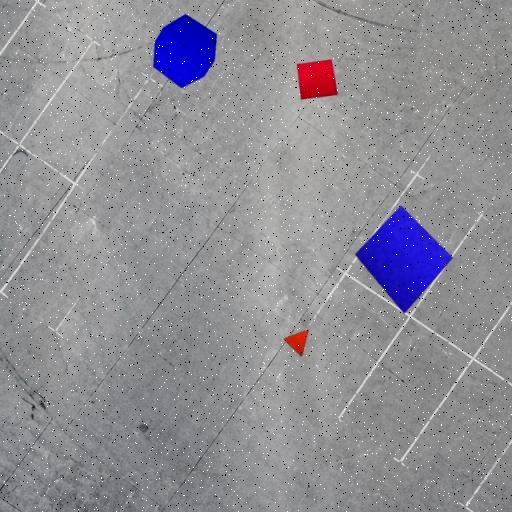BLUE_SQUARE: (354, 205, 454, 314)
RED_SQUARE: (296, 58, 338, 100)
